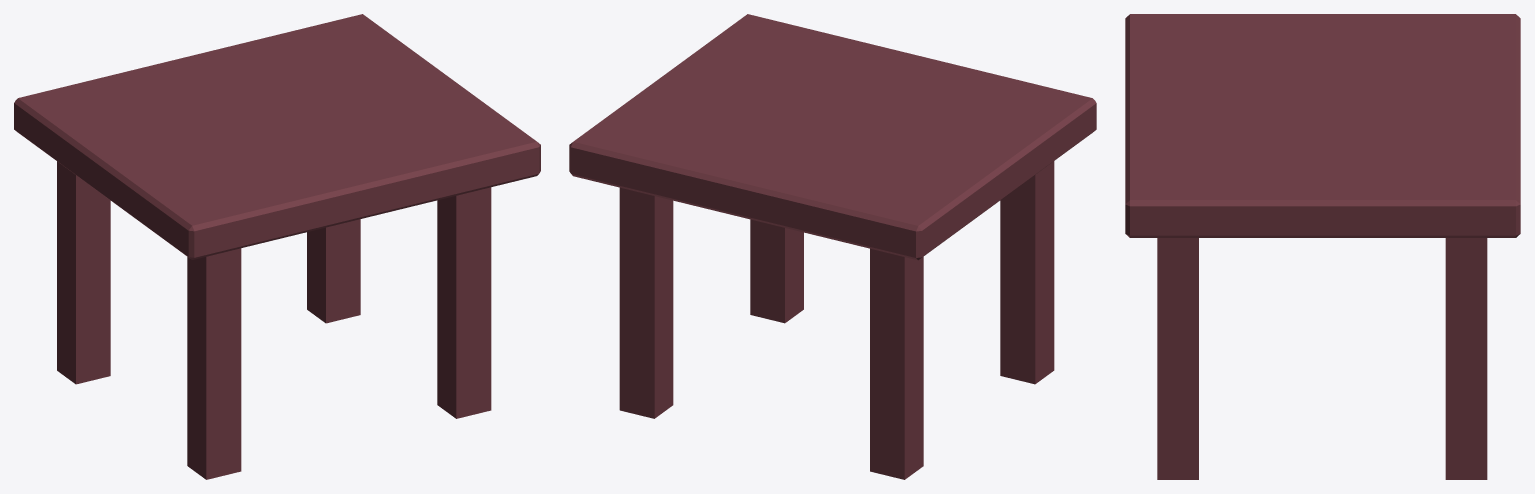
File: Cocina_MesaCuadrada_10.fbx
3 renders of one model, left to right at view 1: azimuth 30°, elevation 25°; view 2: azimuth 150°, elevation 25°; view 3: azimuth 270°, elevation 25°, orthographic. The views are drawn at different scales.
Parts seen in each view (by area): view 1: mesa cuadrada; view 2: mesa cuadrada; view 3: mesa cuadrada.
Boxes of the visible parts, left/top/right/bottom form: mesa cuadrada: left=14, top=14, right=540, bottom=479; mesa cuadrada: left=569, top=14, right=1096, bottom=479; mesa cuadrada: left=1125, top=14, right=1520, bottom=479.
Size of the model in its own units: 97.88 by 71.56 by 86.
Materials: 1 (1 with a texture image).
